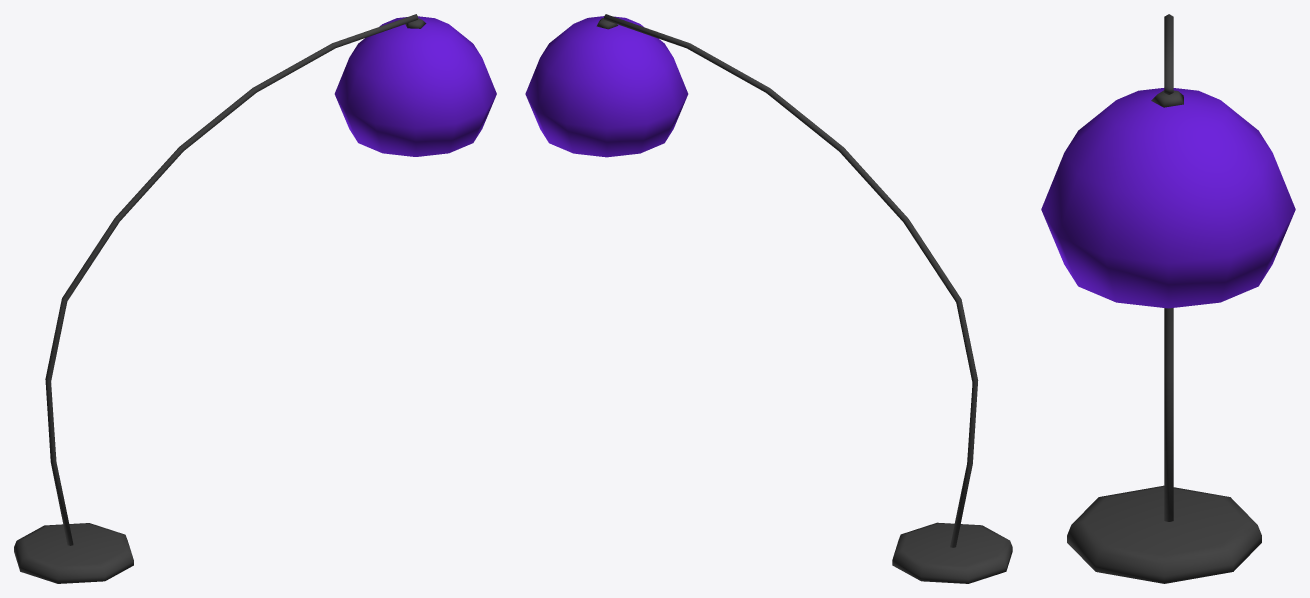
The model's file is Arc_Lamp_C.FBX.
3 renders of one model, left to right at view 1: azimuth 30°, elevation 25°; view 2: azimuth 150°, elevation 25°; view 3: azimuth 270°, elevation 25°, orthographic. The views are drawn at different scales.
Visible parts, largest first — view 1: Arc_Lamp; view 2: Arc_Lamp; view 3: Arc_Lamp.
Boxes of the visible parts, x1,y1,x2,y2 form: Arc_Lamp: [14, 14, 496, 583]; Arc_Lamp: [525, 14, 1012, 583]; Arc_Lamp: [1041, 14, 1295, 583].
Bounding box in the file's own units: 316 × 297 × 95.22.
